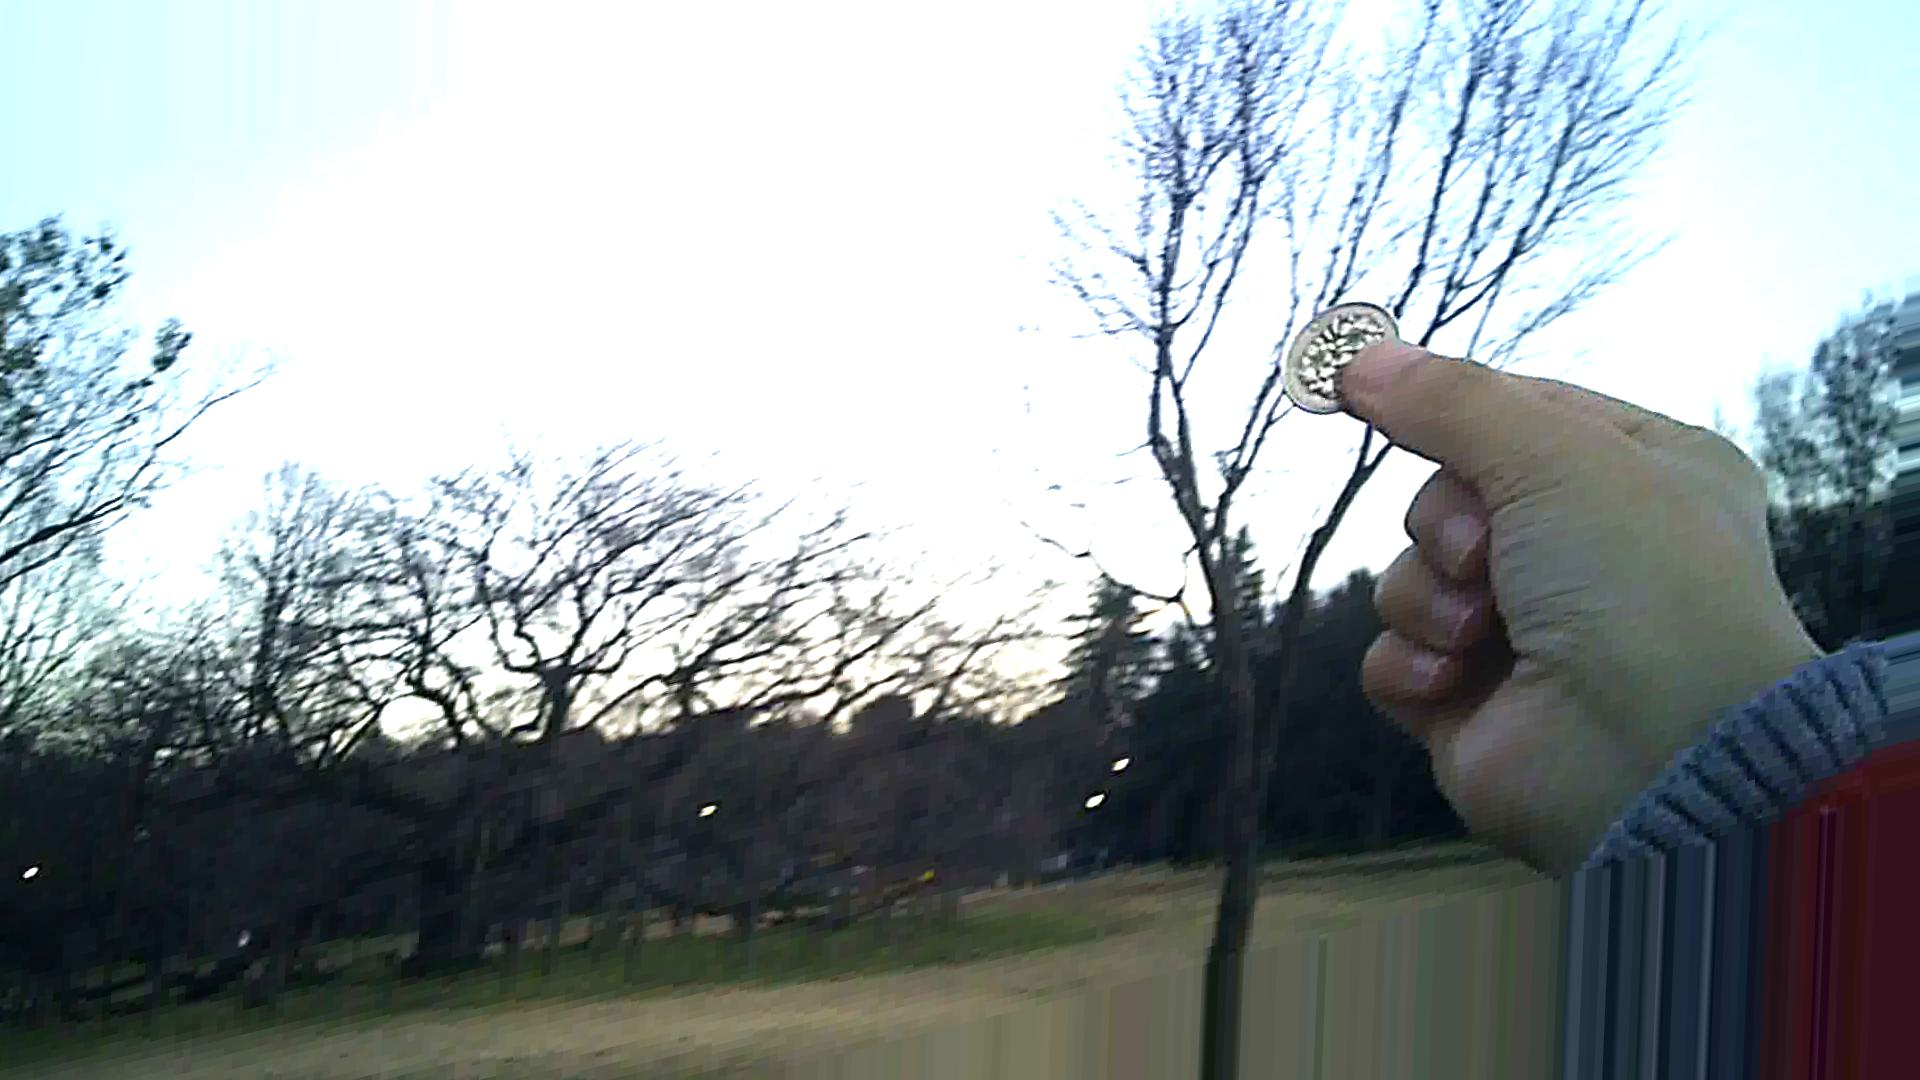100 Yen: (1276, 294, 1422, 419)
